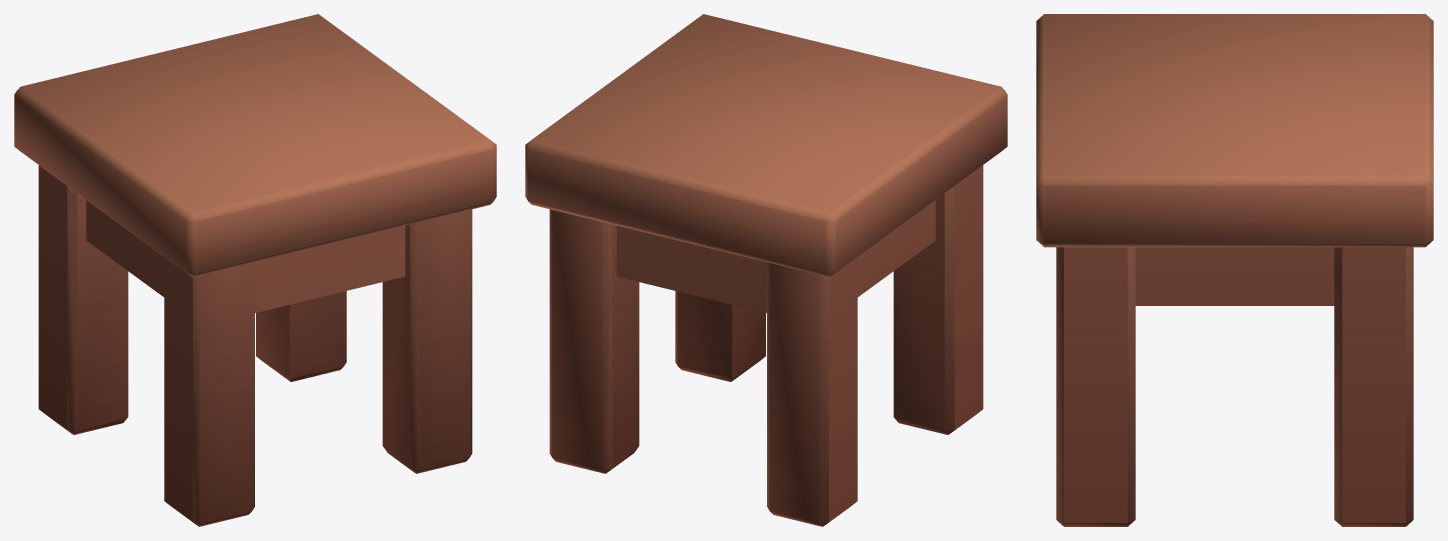
The model's file is furniture-table-small.gltf.
The picture shows the model from 3 angles, left to right: view 1: azimuth 30°, elevation 25°; view 2: azimuth 150°, elevation 25°; view 3: azimuth 270°, elevation 25°; orthographic projection. The views are drawn at different scales.
Visible parts, largest first — view 1: table_small; view 2: table_small; view 3: table_small.
Boxes of the visible parts, bbox=[...] form: table_small: bbox=[14, 14, 496, 526]; table_small: bbox=[525, 14, 1007, 526]; table_small: bbox=[1036, 14, 1433, 526].
Bounding box in the file's own units: 1 × 1 × 1.
Materials: 1 (1 with a texture image).
